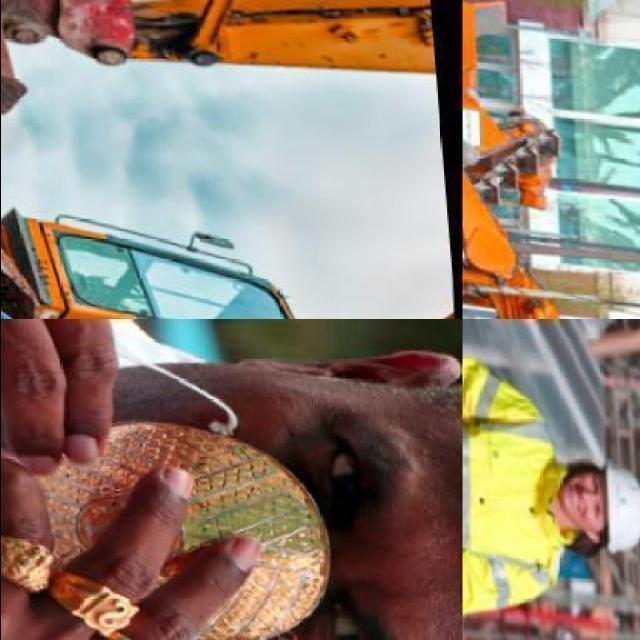helmet: (594, 452, 640, 566)
